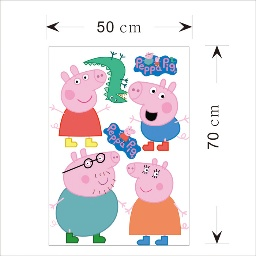Peppa: (50, 64, 109, 147)
